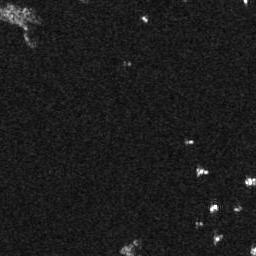ship: (196, 167, 208, 177), (245, 177, 256, 187), (209, 202, 218, 212), (186, 137, 195, 145), (142, 15, 148, 23)
